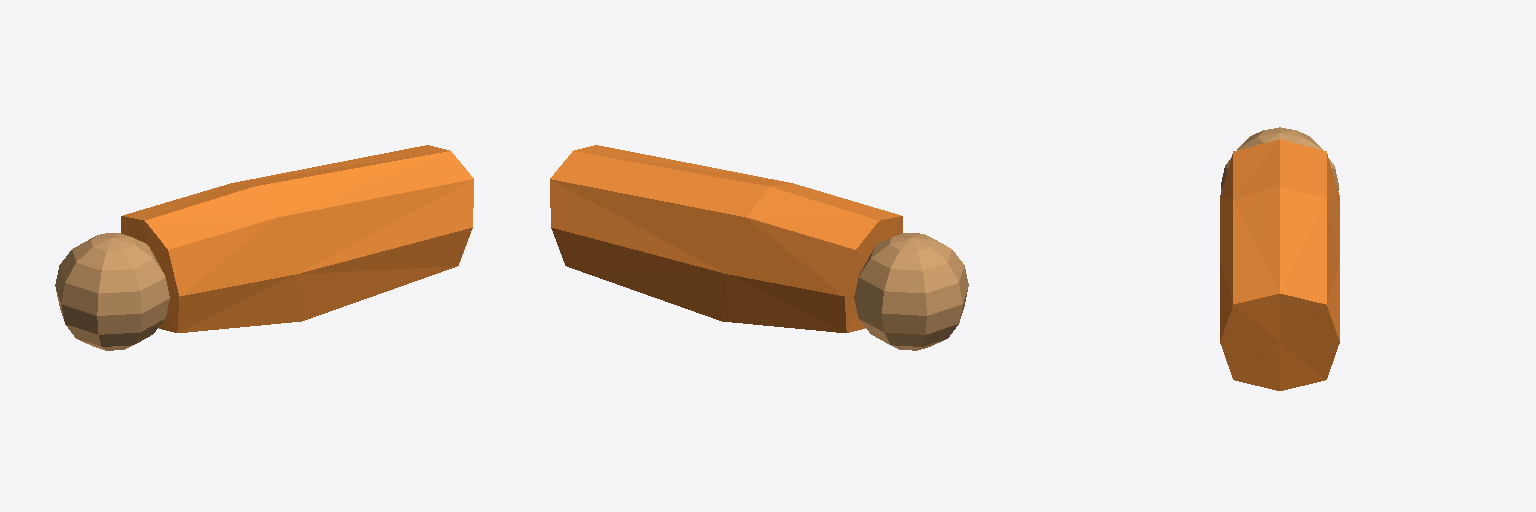
File: left_upper_arm.obj
3 views of the same model, side by side, from view 1: azimuth 30°, elevation 25°; view 2: azimuth 150°, elevation 25°; view 3: azimuth 270°, elevation 25° (orthographic).
Visible parts, largest first — view 1: Left_Upper_Arm.001_Cube.010; view 2: Left_Upper_Arm.001_Cube.010; view 3: Left_Upper_Arm.001_Cube.010.
Boxes of the visible parts, x1=… form: Left_Upper_Arm.001_Cube.010: x1=55, y1=145, x2=473, y2=350; Left_Upper_Arm.001_Cube.010: x1=550, y1=145, x2=968, y2=350; Left_Upper_Arm.001_Cube.010: x1=1220, y1=127, x2=1339, y2=390.
Size of the model in its own units: 0.666 by 0.228 by 0.1773.